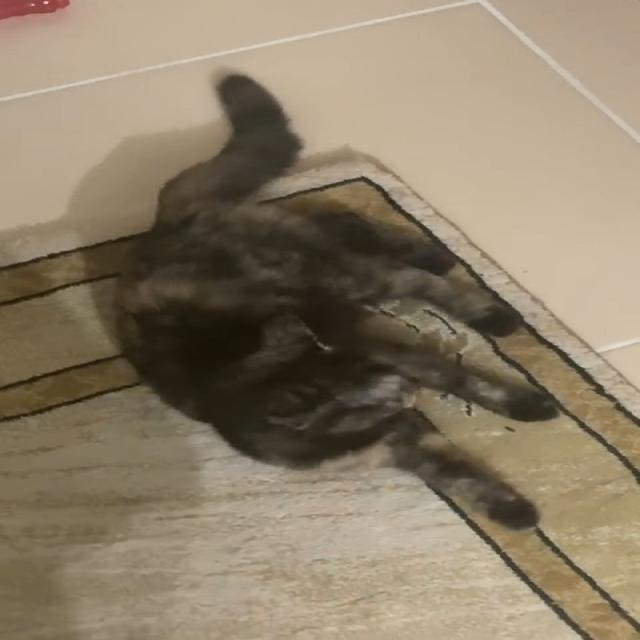authorized: (111, 70, 558, 532)
